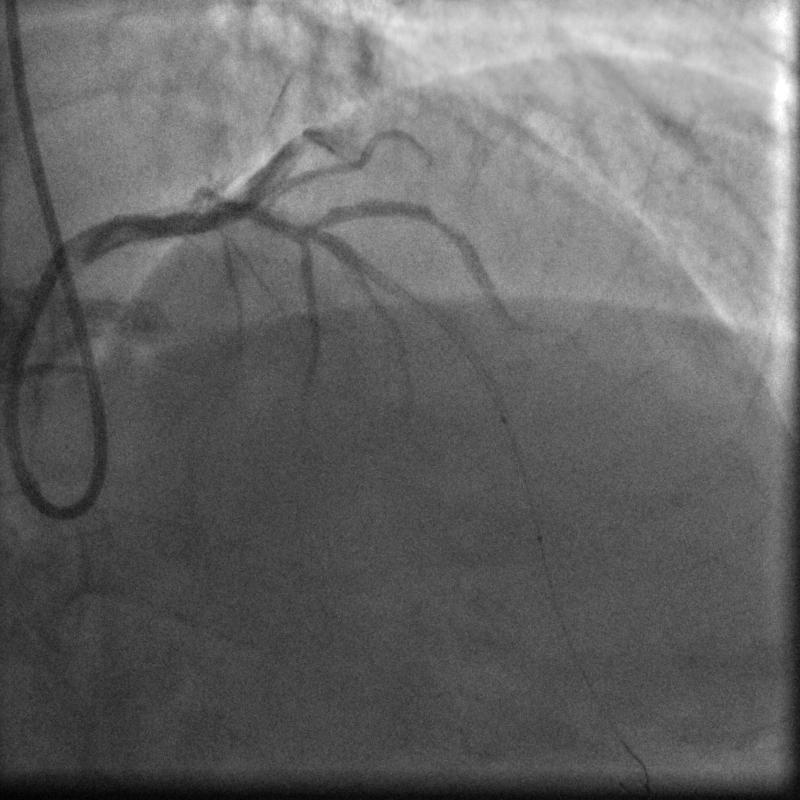Stenosis: (420, 198, 461, 243)
